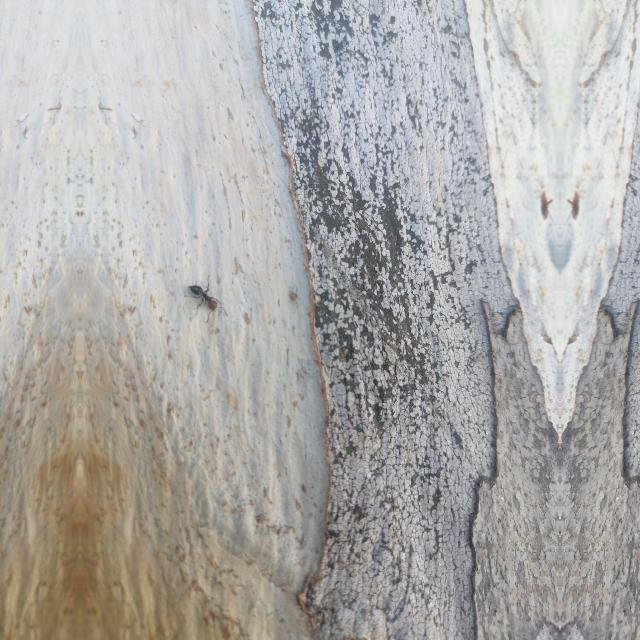Crematogaster: (185, 279, 221, 315)
